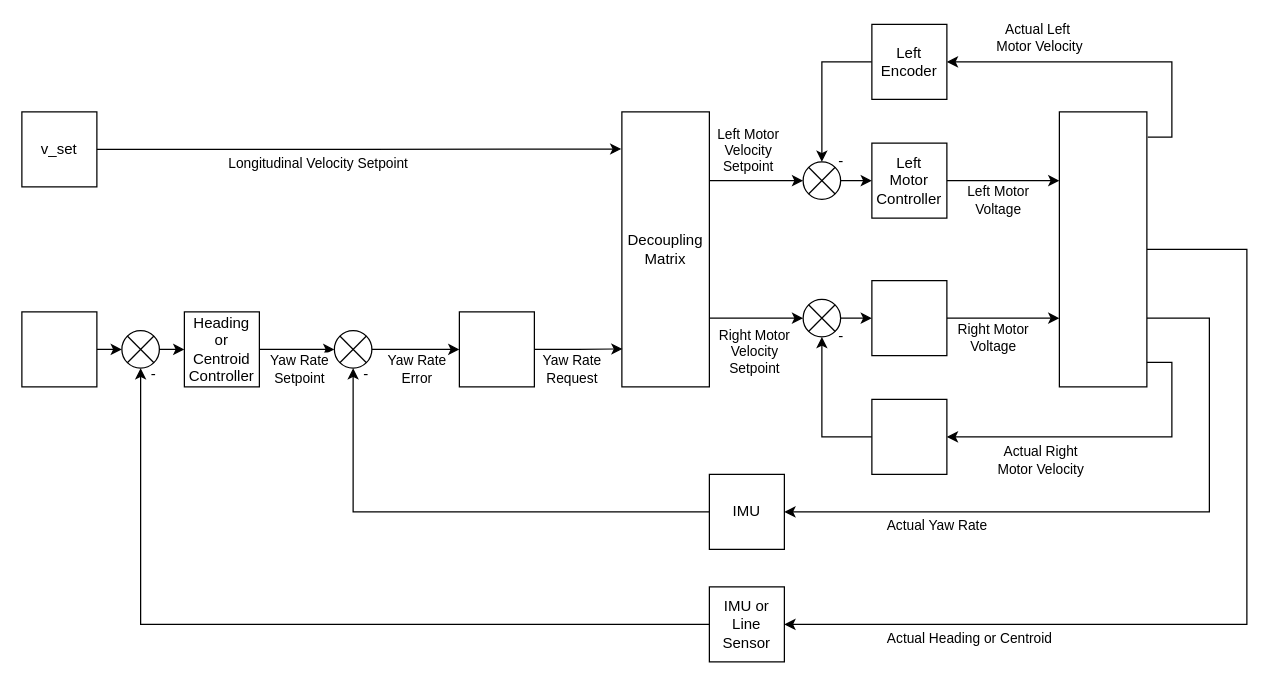
Some shapes in this 1279 by 684 pixel diagram are drawn without their labels. Here are the shapes that lost their labels. From the top down, the centre of each, then its label:
At point 1102,249: "ROMI Dynamics".
At point 909,317: "Right Motor Controller".
At point 59,349: "Heading or Centroid Setpoint".
At point 496,349: "Yaw Rate Controller".
At point 909,436: "Right Encoder".
